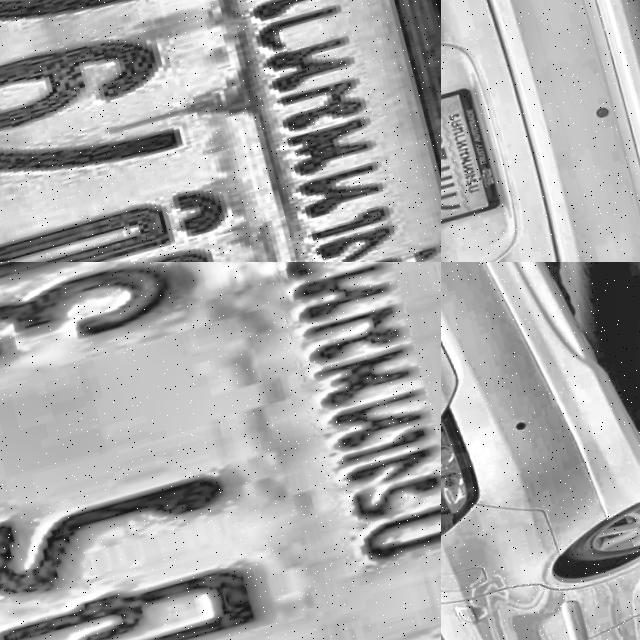license-plate: (0, 262, 441, 640), (0, 0, 441, 262), (441, 89, 498, 232)
